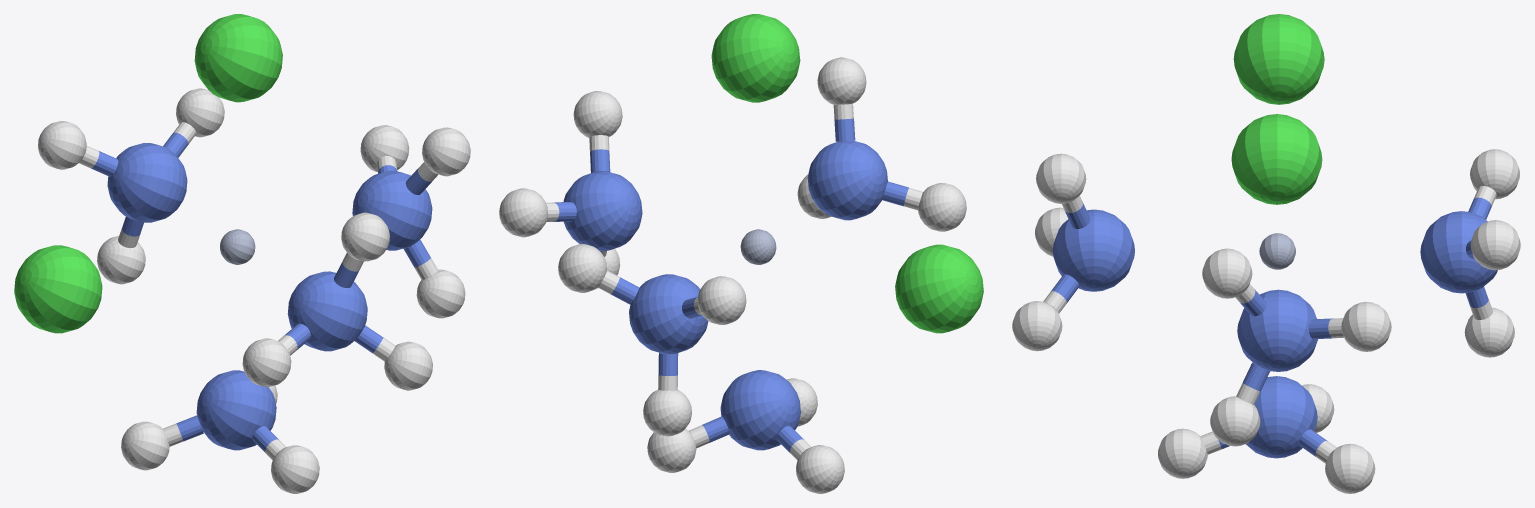
File: cis-tetrammindiclorocromo.gltf
The picture shows the model from 3 angles, left to right: view 1: azimuth 30°, elevation 25°; view 2: azimuth 150°, elevation 25°; view 3: azimuth 270°, elevation 25°; orthographic projection. The views are drawn at different scales.
Visible parts, largest first — view 1: ShapeSphere.013_ShapeSphere.014, ShapeSphere.014_ShapeSphere.015, ShapeSphere.001_ShapeSphere.002, ShapeSphere.007_ShapeSphere.008, ShapeSphere.010_ShapeSphere.011, ShapeSphere.004_ShapeSphere.005, ShapeSphere.005_ShapeSphere.006, ShapeSphere.011_ShapeSphere.012, ShapeSphere.008_ShapeSphere.009, ShapeSphere.012_ShapeSphere.013, ShapeSphere.002_ShapeSphere.003, ShapeSphere.009_ShapeSphere.010 (+6 smaller); view 2: ShapeSphere.013_ShapeSphere.014, ShapeSphere.014_ShapeSphere.015, ShapeSphere.010_ShapeSphere.011, ShapeSphere.007_ShapeSphere.008, ShapeSphere.004_ShapeSphere.005, ShapeSphere.001_ShapeSphere.002, ShapeSphere.015_ShapeSphere.016, ShapeSphere.002_ShapeSphere.003, ShapeSphere.009_ShapeSphere.010, ShapeSphere.003_ShapeSphere.004, ShapeSphere.012_ShapeSphere.013, ShapeSphere.011_ShapeSphere.012 (+6 smaller); view 3: ShapeSphere.013_ShapeSphere.014, ShapeSphere.014_ShapeSphere.015, ShapeSphere.010_ShapeSphere.011, ShapeSphere.004_ShapeSphere.005, ShapeSphere.001_ShapeSphere.002, ShapeSphere.007_ShapeSphere.008, ShapeSphere.005_ShapeSphere.006, ShapeSphere.015_ShapeSphere.016, ShapeSphere.003_ShapeSphere.004, ShapeSphere.018_ShapeSphere, ShapeSphere.011_ShapeSphere.012, ShapeSphere.017_ShapeSphere.018 (+7 smaller).
Boxes of the visible parts, <box> form: ShapeSphere.013_ShapeSphere.014: <box>14,245,102,333</box>; ShapeSphere.014_ShapeSphere.015: <box>194,14,282,102</box>; ShapeSphere.001_ShapeSphere.002: <box>107,143,187,222</box>; ShapeSphere.007_ShapeSphere.008: <box>196,370,276,450</box>; ShapeSphere.010_ShapeSphere.011: <box>287,271,367,351</box>; ShapeSphere.004_ShapeSphere.005: <box>352,170,432,250</box>; ShapeSphere.005_ShapeSphere.006: <box>422,127,470,176</box>; ShapeSphere.011_ShapeSphere.012: <box>341,212,389,261</box>; ShapeSphere.008_ShapeSphere.009: <box>271,445,319,493</box>; ShapeSphere.012_ShapeSphere.013: <box>242,338,291,386</box>; ShapeSphere.002_ShapeSphere.003: <box>38,121,86,169</box>; ShapeSphere.009_ShapeSphere.010: <box>121,421,169,470</box>; ShapeSphere.013_ShapeSphere.014: <box>895,244,983,333</box>; ShapeSphere.014_ShapeSphere.015: <box>711,14,800,102</box>; ShapeSphere.010_ShapeSphere.011: <box>807,140,887,220</box>; ShapeSphere.007_ShapeSphere.008: <box>720,370,800,450</box>; ShapeSphere.004_ShapeSphere.005: <box>563,171,642,251</box>; ShapeSphere.001_ShapeSphere.002: <box>629,274,708,353</box>; ShapeSphere.015_ShapeSphere.016: <box>499,188,547,237</box>; ShapeSphere.002_ShapeSphere.003: <box>697,276,746,324</box>; ShapeSphere.009_ShapeSphere.010: <box>796,445,844,493</box>; ShapeSphere.003_ShapeSphere.004: <box>558,244,606,292</box>; ShapeSphere.012_ShapeSphere.013: <box>918,183,966,231</box>; ShapeSphere.011_ShapeSphere.012: <box>817,57,866,104</box>; ShapeSphere.013_ShapeSphere.014: <box>1231,114,1322,204</box>; ShapeSphere.014_ShapeSphere.015: <box>1233,14,1324,104</box>; ShapeSphere.010_ShapeSphere.011: <box>1052,209,1134,291</box>; ShapeSphere.004_ShapeSphere.005: <box>1237,289,1318,371</box>; ShapeSphere.001_ShapeSphere.002: <box>1420,211,1497,293</box>; ShapeSphere.007_ShapeSphere.008: <box>1246,376,1317,458</box>; ShapeSphere.005_ShapeSphere.006: <box>1202,248,1252,298</box>; ShapeSphere.015_ShapeSphere.016: <box>1341,301,1391,351</box>; ShapeSphere.003_ShapeSphere.004: <box>1470,220,1520,270</box>; ShapeSphere.018_ShapeSphere: <box>1012,301,1062,351</box>; ShapeSphere.011_ShapeSphere.012: <box>1036,153,1086,203</box>; ShapeSphere.017_ShapeSphere.018: <box>1325,443,1375,493</box>.
Size of the model in its own units: 5.07 by 4.98 by 5.06.
